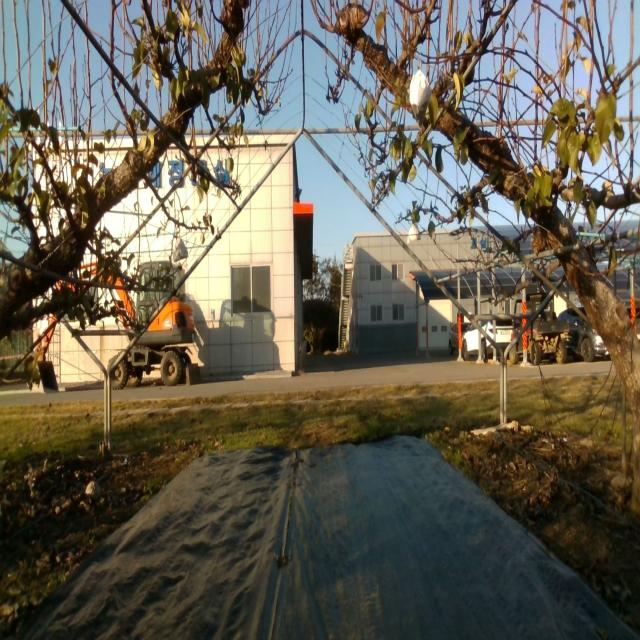pearbags: (410, 69, 430, 129), (172, 236, 188, 264), (406, 222, 422, 247)
